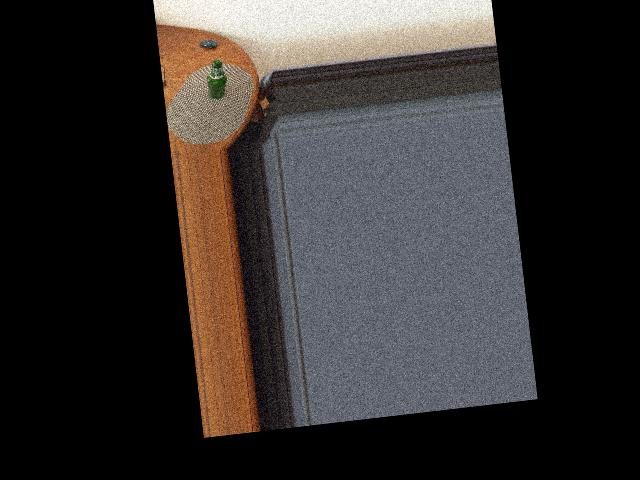beer: (203, 58, 229, 99)
